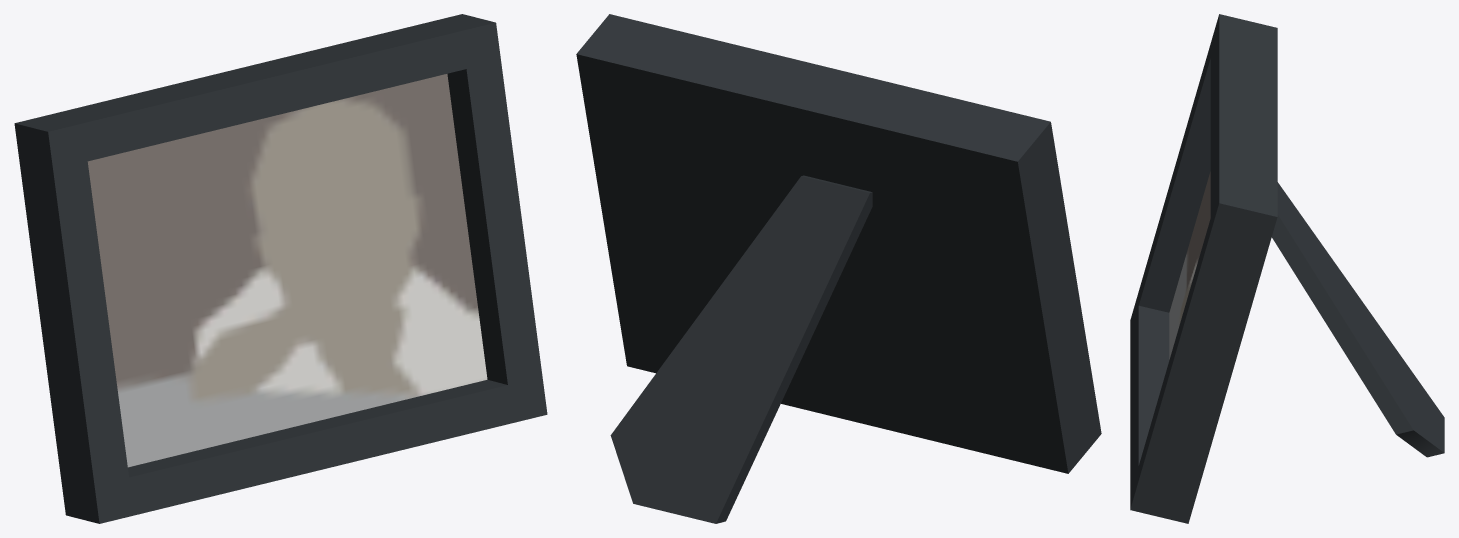
File: SM_Prop_Photo_02.obj
3 renders of one model, left to right at view 1: azimuth 30°, elevation 25°; view 2: azimuth 150°, elevation 25°; view 3: azimuth 270°, elevation 25°, orthographic. The views are drawn at different scales.
Parts seen in each view (by area): view 1: SM_Prop_Photo_02_M_PolygonOffice_01_A; view 2: SM_Prop_Photo_02_M_PolygonOffice_01_A; view 3: SM_Prop_Photo_02_M_PolygonOffice_01_A.
Boxes of the visible parts, x1,y1,x2,y2 form: SM_Prop_Photo_02_M_PolygonOffice_01_A: (14, 14, 547, 523); SM_Prop_Photo_02_M_PolygonOffice_01_A: (576, 14, 1101, 523); SM_Prop_Photo_02_M_PolygonOffice_01_A: (1130, 14, 1444, 523).
Size of the model in its own units: 0.3608 by 0.2852 by 0.2535.
Materials: 1 (1 with a texture image).
